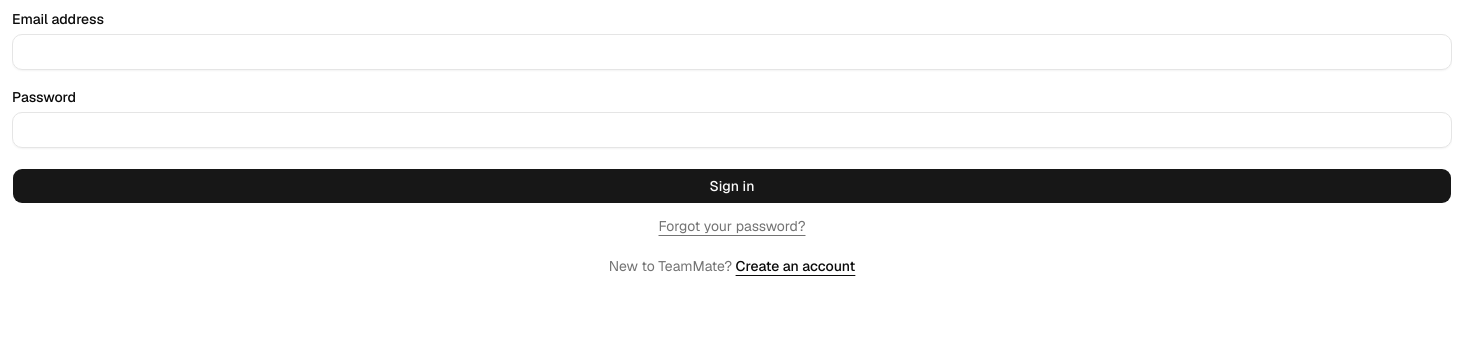
Test case: sign-in UI › shows one generic message for invalid credentials
Type "ada@example.com" into the field labelled "Email address" at (732, 52), box [12, 34, 1452, 70]
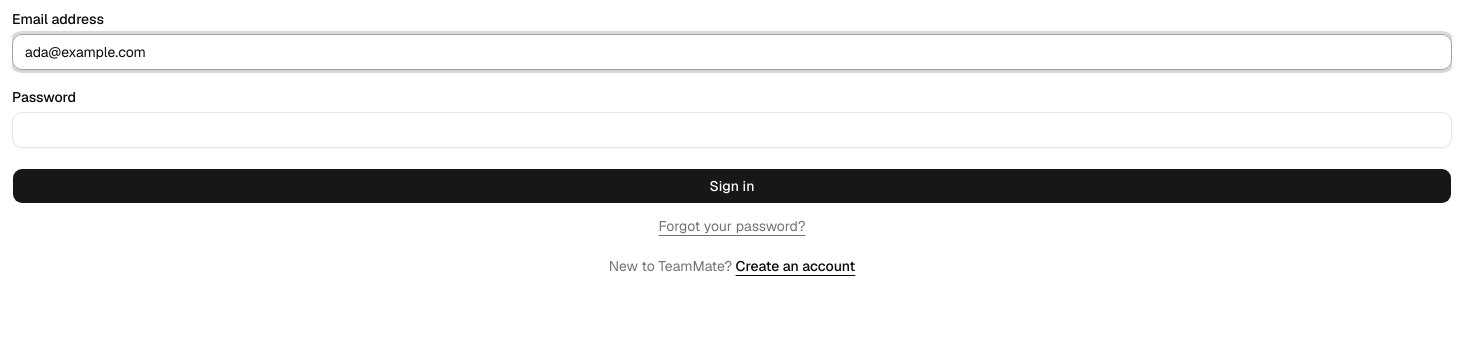
Type "correct-horse-42" into the password field labelled "Password" at (732, 130), box [12, 112, 1452, 148]
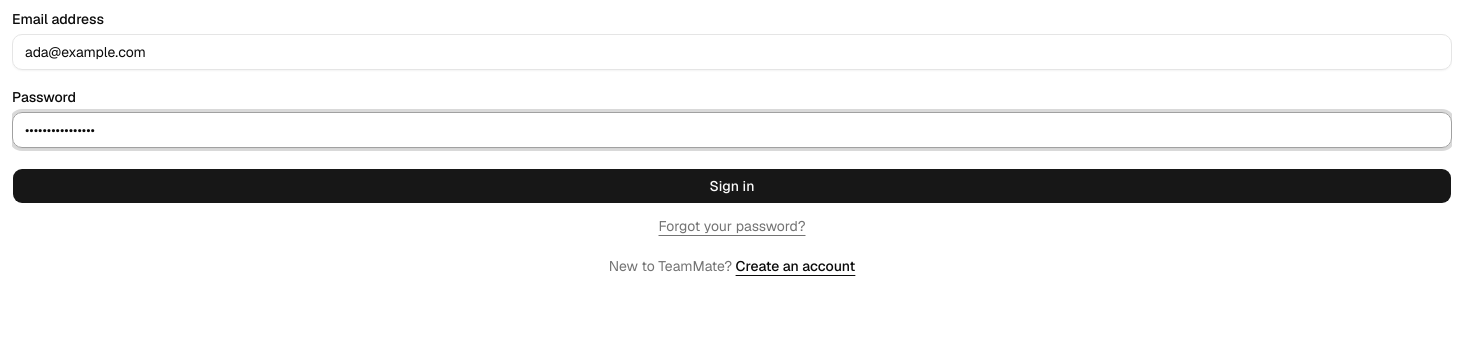
Click the button "Sign in" at (732, 186), box [12, 168, 1452, 204]
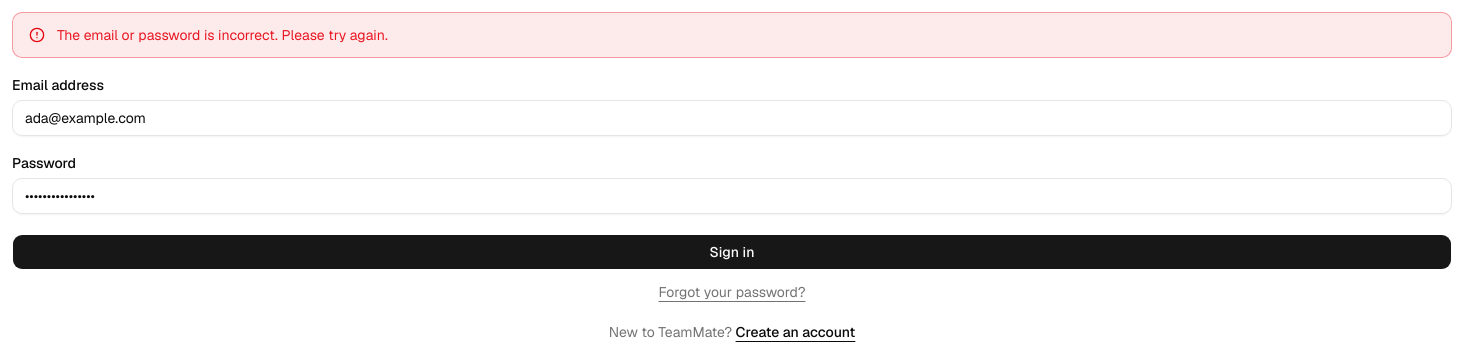
Check: the text "The email or password is incorrect. Please try again." is shown, box [57, 26, 388, 44]
